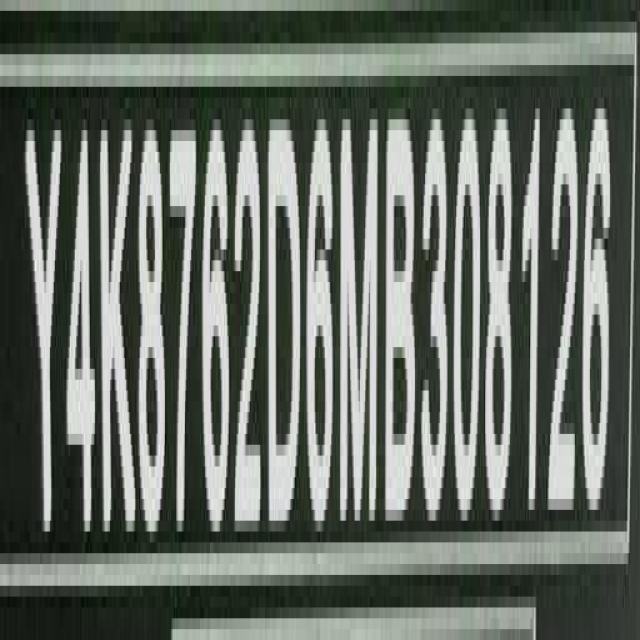0: (454, 100, 482, 530)
1: (520, 100, 542, 532)
2: (232, 112, 264, 538), (546, 94, 577, 527)
3: (420, 104, 452, 530)
4: (62, 115, 97, 549)
6: (584, 90, 618, 532), (304, 106, 338, 534), (202, 114, 234, 541)
7: (165, 112, 199, 534)
8: (484, 99, 516, 524), (136, 117, 166, 544)
B: (385, 99, 420, 534)
D: (267, 108, 301, 547)
K: (99, 116, 137, 548)
M: (340, 104, 383, 536)
Y: (24, 105, 63, 542)
